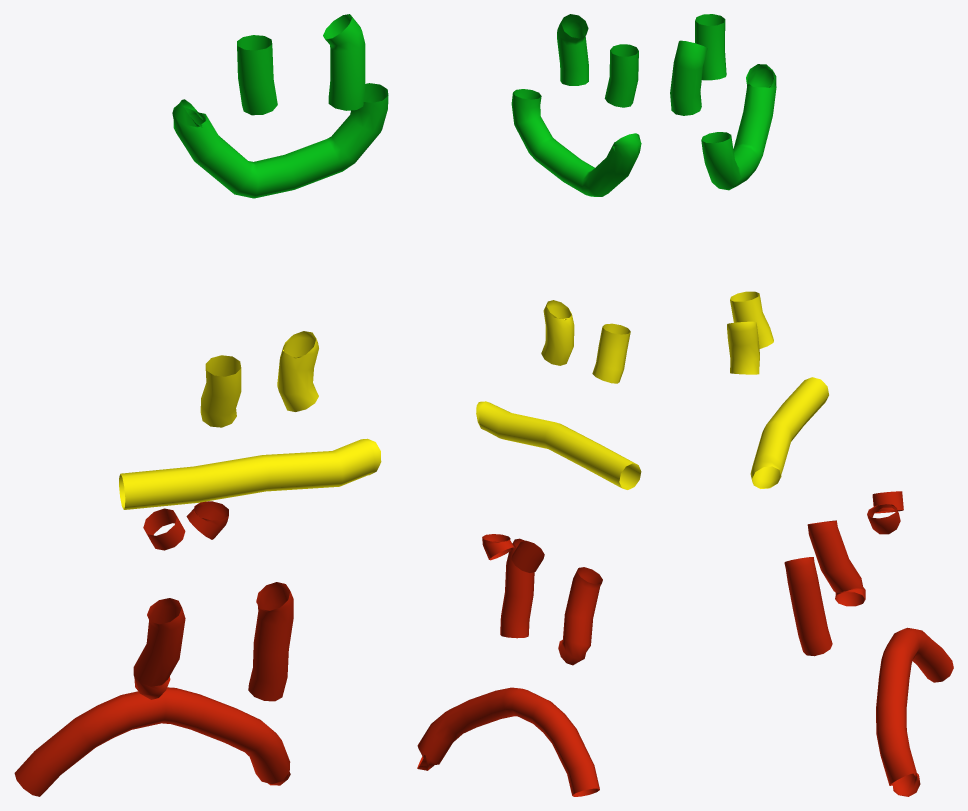
The model's file is test_build1_20221205054235.fbx.
The picture shows the model from 3 angles, left to right: view 1: azimuth 30°, elevation 25°; view 2: azimuth 150°, elevation 25°; view 3: azimuth 270°, elevation 25°; orthographic projection. The views are drawn at different scales.
Parts seen in each view (by area): view 1: TubeRenderer(Clone) (×11); view 2: TubeRenderer(Clone) (×11); view 3: TubeRenderer(Clone) (×11).
Boxes of the visible parts, x1,y1,x2,y2 form: TubeRenderer(Clone) (×11): (14,14,388,796); TubeRenderer(Clone) (×11): (417,14,641,796); TubeRenderer(Clone) (×11): (670,14,953,796).
Size of the model in its own units: 0.3233 by 1.06 by 0.3715.
